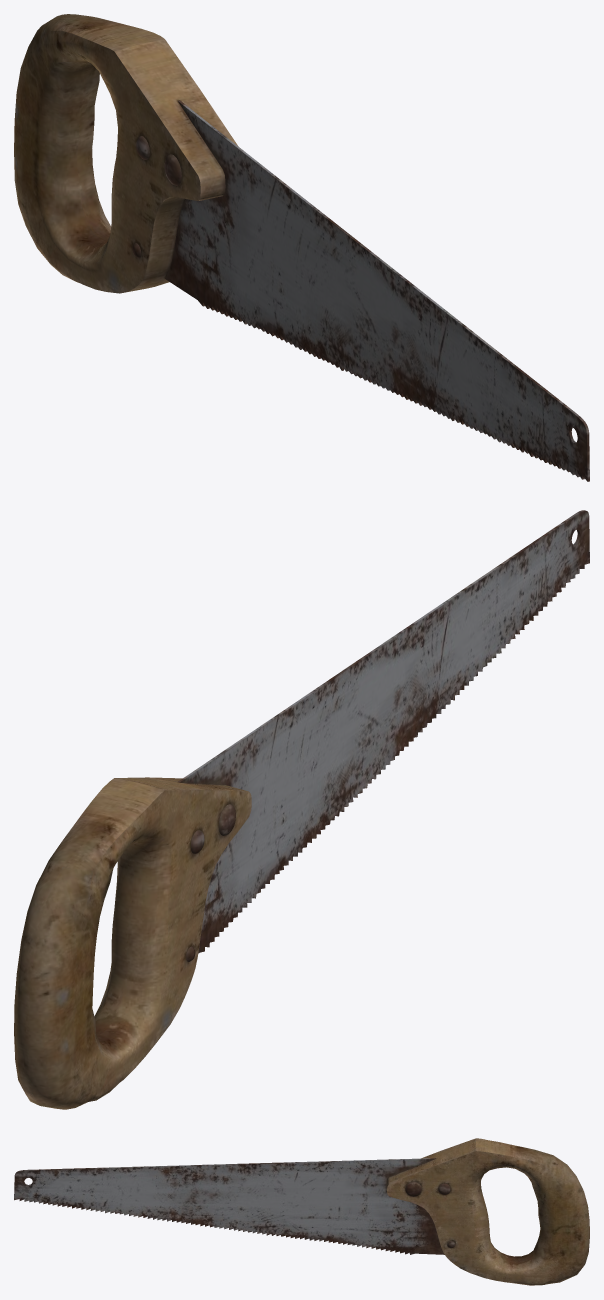
File: handsaw.glb
The picture shows the model from 3 angles, top to bottom: view 1: azimuth 30°, elevation 25°; view 2: azimuth 150°, elevation 25°; view 3: azimuth 270°, elevation 25°; orthographic projection. The views are drawn at different scales.
Parts seen in each view (by area): view 1: handsaw_wood; view 2: handsaw_wood; view 3: handsaw_wood.
Boxes of the visible parts, left/top/right/bottom form: handsaw_wood: left=14, top=14, right=589, bottom=481; handsaw_wood: left=14, top=510, right=589, bottom=1109; handsaw_wood: left=14, top=1138, right=589, bottom=1285.
Size of the model in its own units: 0.0408 by 0.1665 by 0.633.
Materials: 1 (1 with a texture image).
